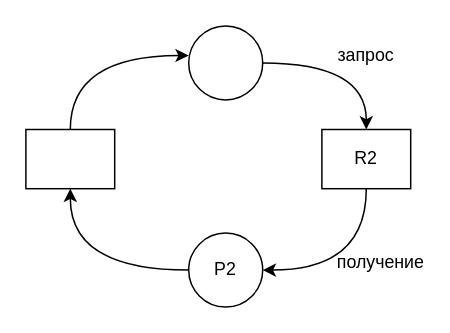
Image size: 450x333. Some labels were removed from this diagram. The centre of each missing label's shape, as x and y in pixels:
P1: (x=225, y=62)
R1: (x=69, y=158)
